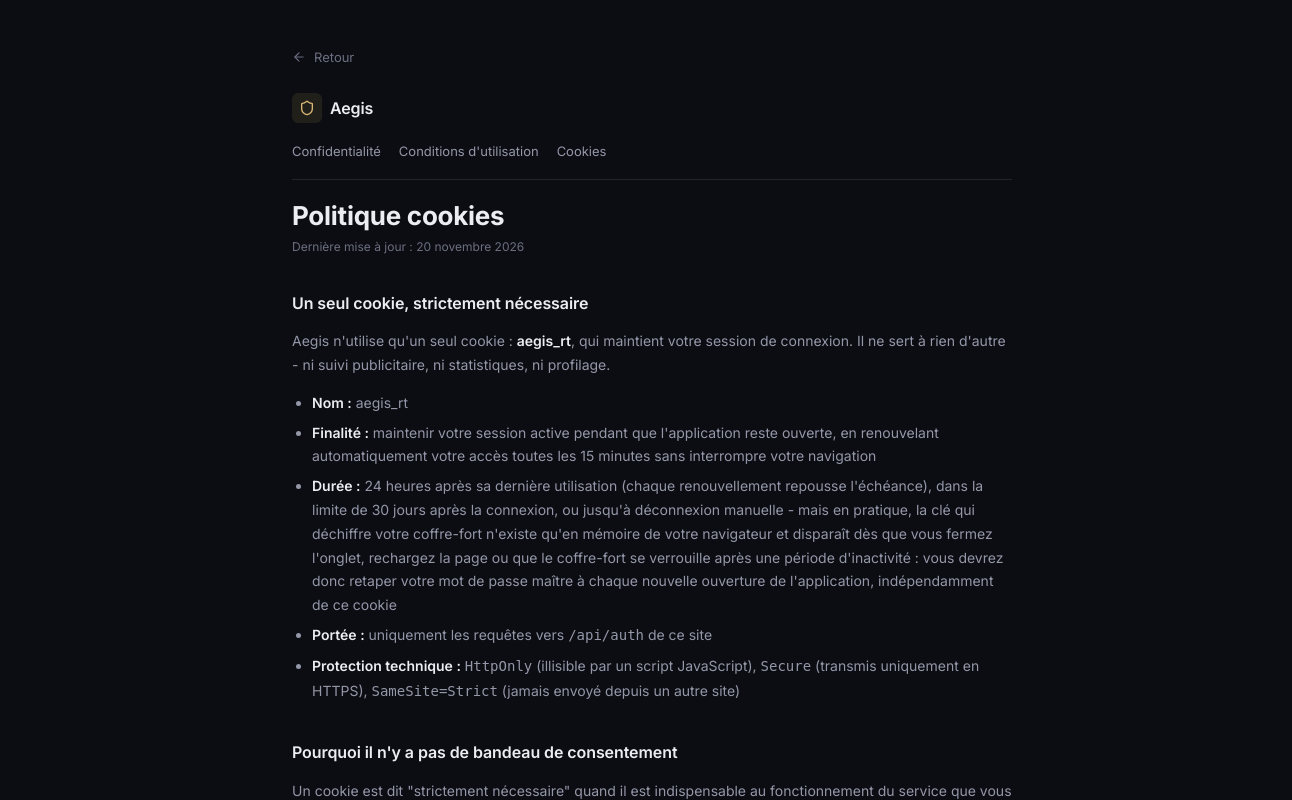
Test: LegalLayout — bouton Retour › renvoie vers l'accueil quand la page légale a été ouverte directement
This screenshot has width=1292, height=800.
Click the button "Retour". click: (323, 57)
box: [292,49,354,65]
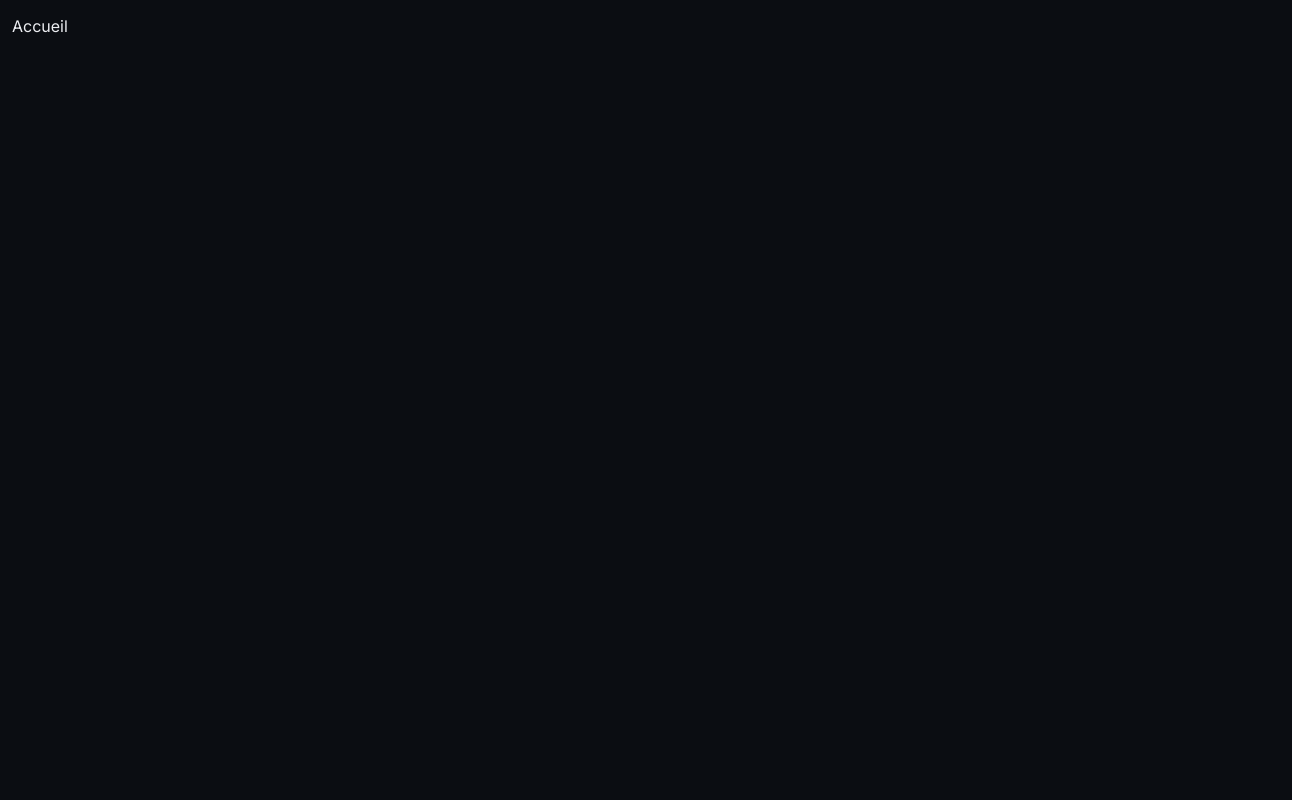
Expected: the text "Accueil" is shown, [12,16,68,36]
